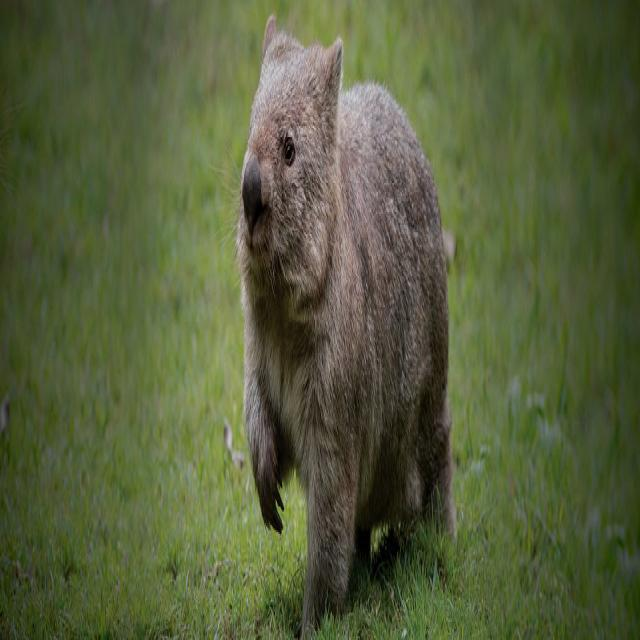wombats: (237, 15, 457, 635)
